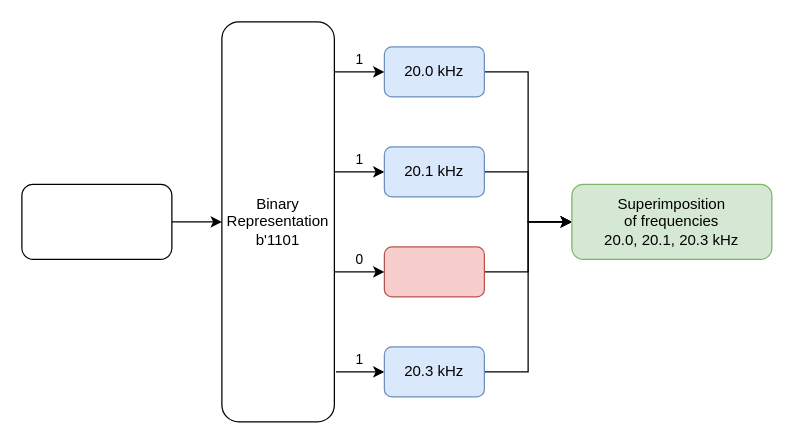
Image size: 794x444. Some labels were removed from this diagram. Here are the shapes that lost their labels. From the top down, the centre of each, then its label:
At (96,221): "0xD".
At (433,271): "20.2 kHz".
